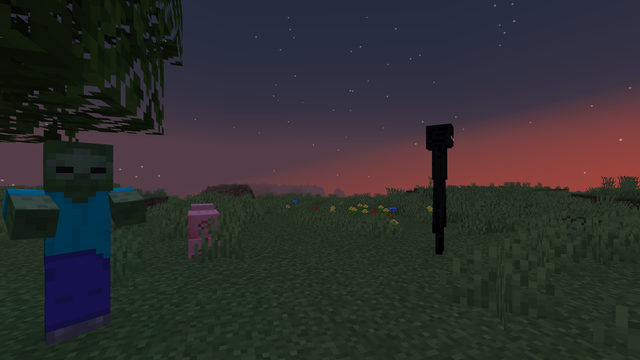cochons: (177, 208, 223, 257)
endermens: (419, 118, 460, 256)
zombies: (20, 144, 122, 353)
